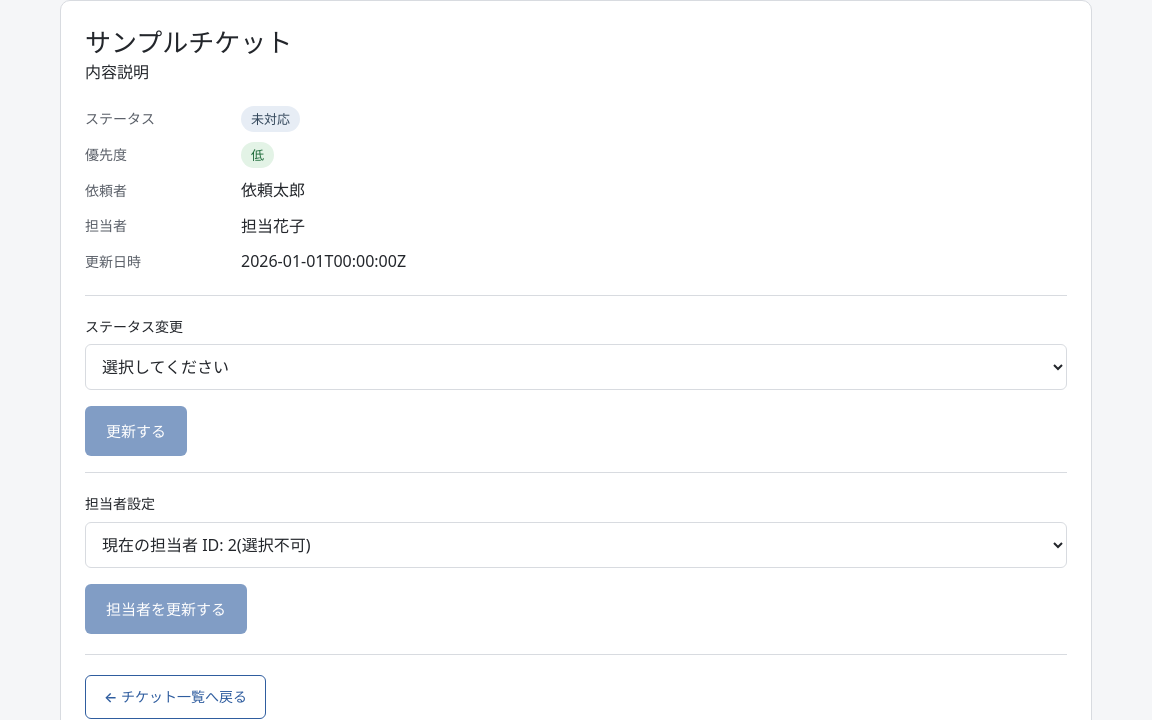
Test: TicketDetailPage › ステータス更新中に連続submitしてもPATCHは1回しか発行されない
This screenshot has width=1152, height=720.
Expected: the heading "サンプルチケット" is shown, [85,25,292,60]
Select "対応中" in the dropdown labelled "ステータス変更". click: (576, 367)
box: [85,344,1067,390]
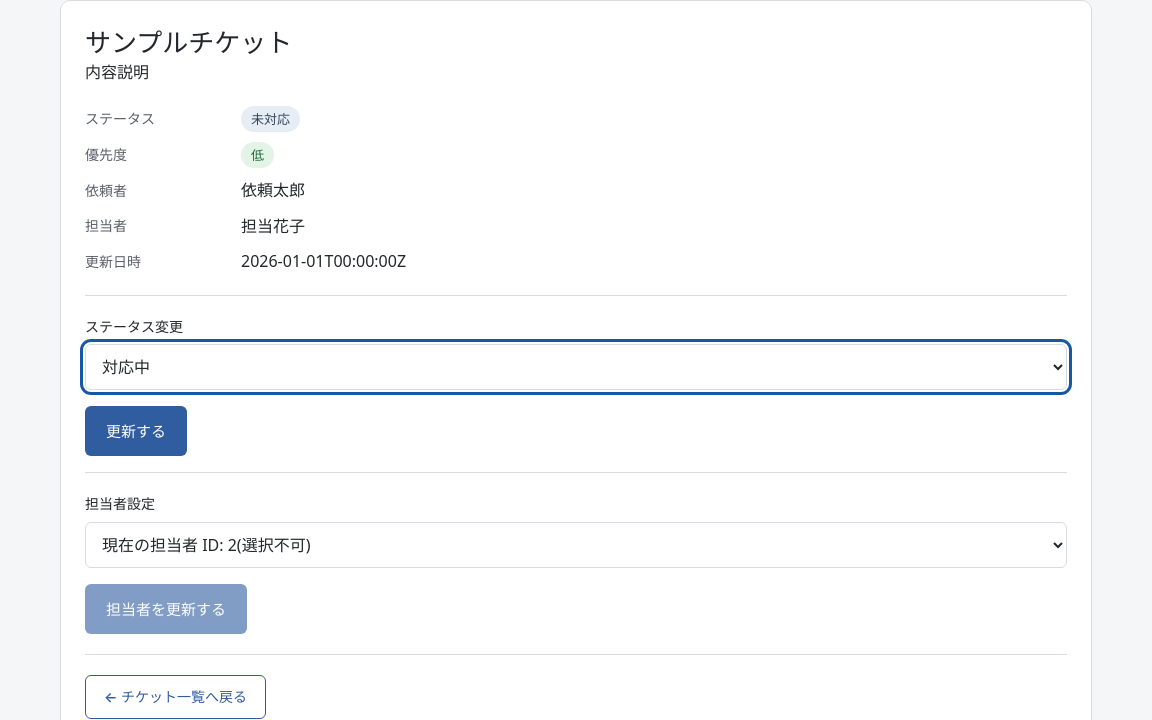
Submit the form "更新する", box [85,295,1067,456]
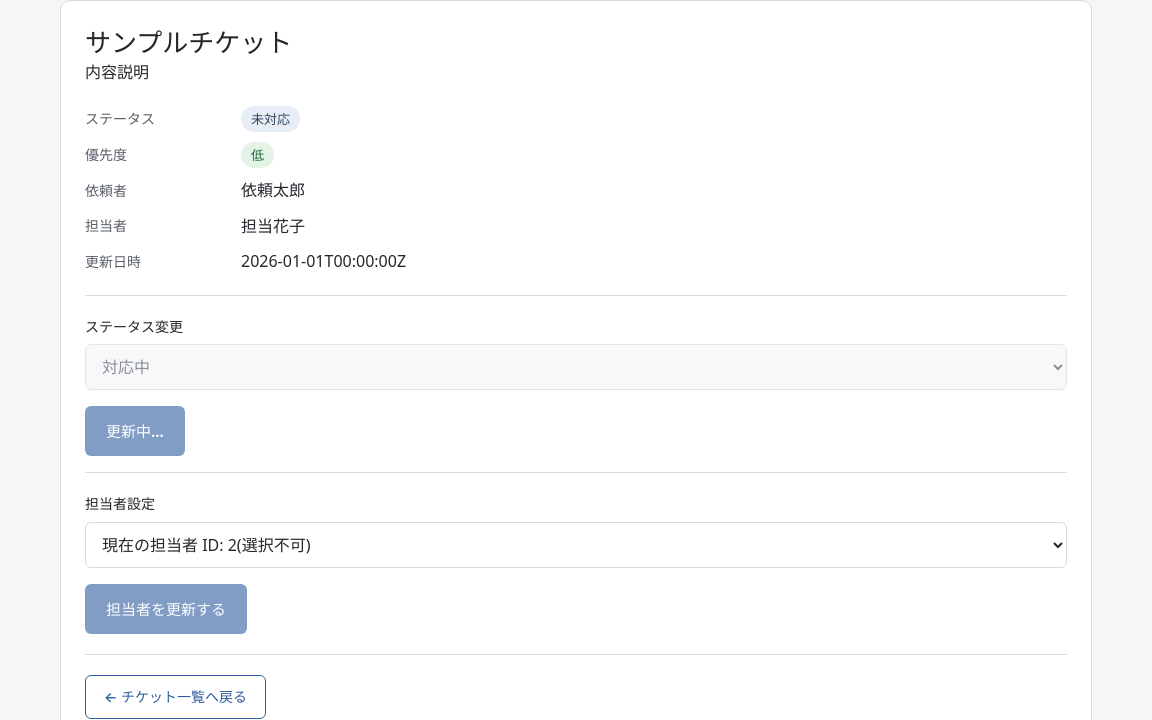
Submit the form named "更新する", box [85,295,1067,456]
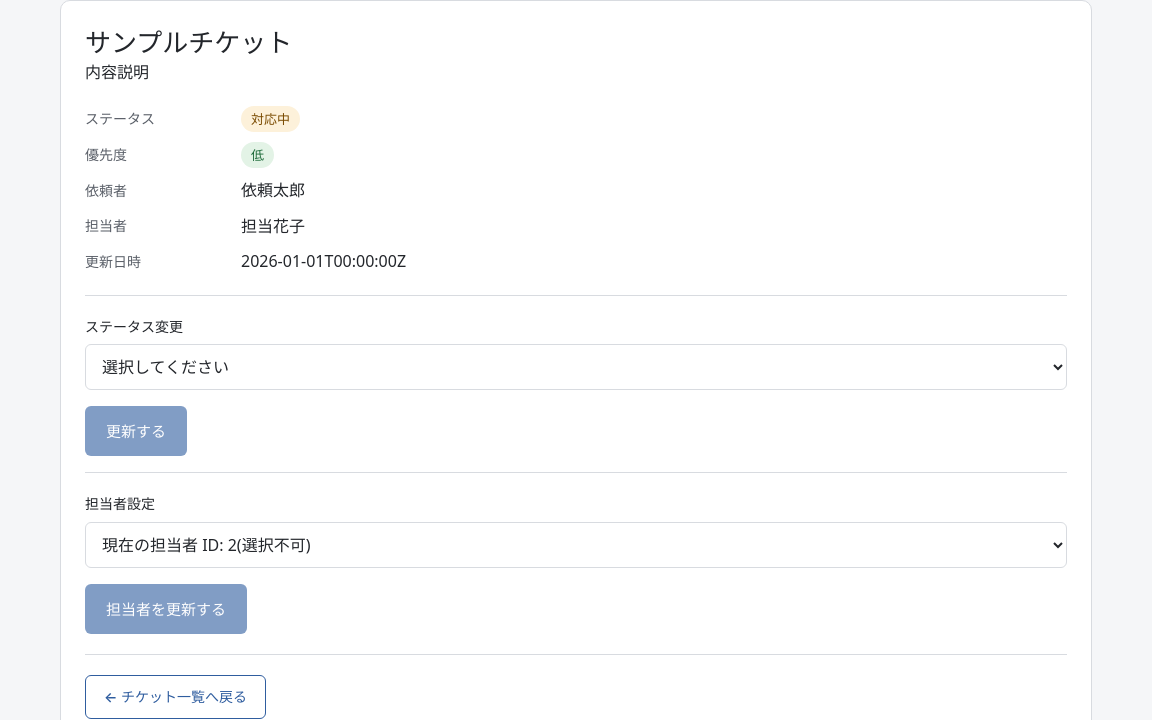
Expected: the text "対応中" is shown, [241,106,300,132]
